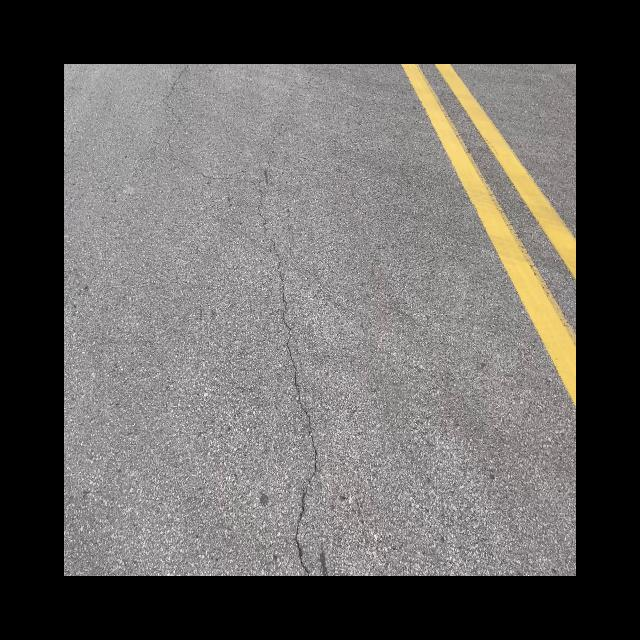retak_memanjang: (226, 149, 336, 574)
